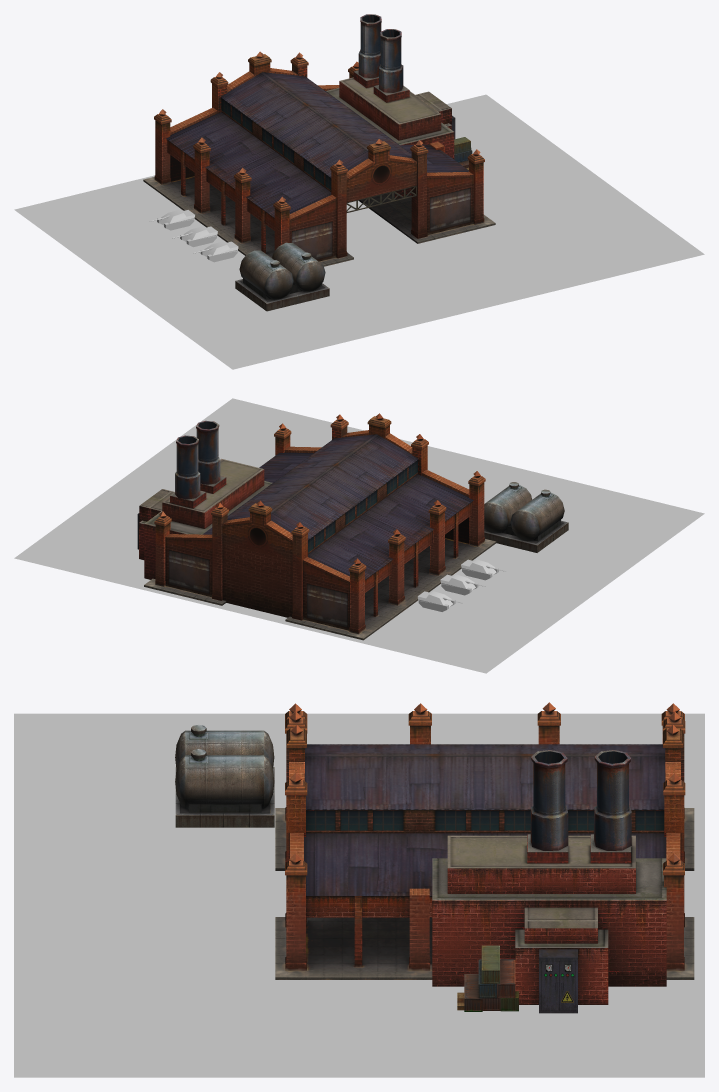
The model's file is Dhz_Arsenal_02.FBX.
3 renders of one model, top to bottom at view 1: azimuth 30°, elevation 25°; view 2: azimuth 150°, elevation 25°; view 3: azimuth 270°, elevation 25°, orthographic. The views are drawn at different scales.
Parts seen in each view (by area): view 1: Dhz_arsenal_02; view 2: Dhz_arsenal_02; view 3: Dhz_arsenal_02.
Boxes of the visible parts, x1,y1,x2,y2 form: Dhz_arsenal_02: [14, 14, 704, 369]; Dhz_arsenal_02: [14, 398, 704, 673]; Dhz_arsenal_02: [14, 702, 704, 1077].
Bounding box in the file's own units: 154 × 41.67 × 124.
